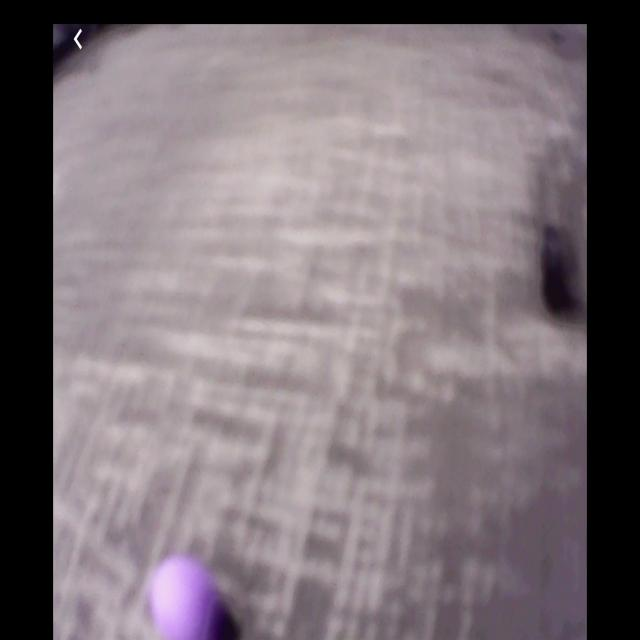ball: (145, 555, 224, 640)
